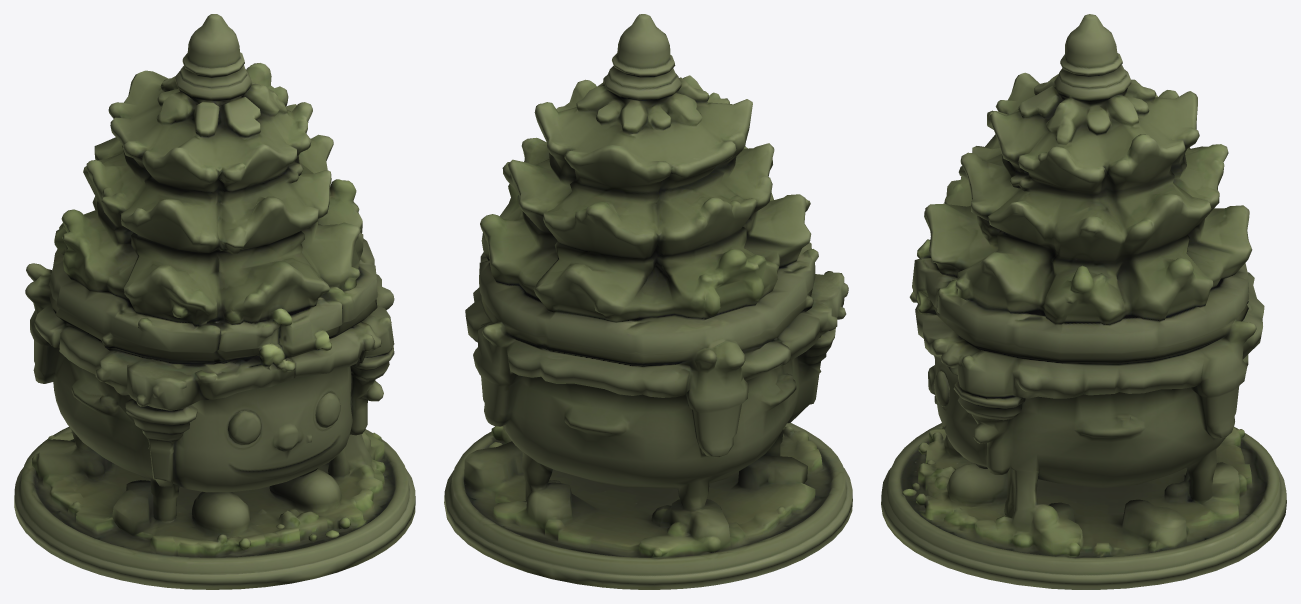
The model's file is cambodia-envi-3.glb.
3 views of the same model, side by side, from view 1: azimuth 30°, elevation 25°; view 2: azimuth 150°, elevation 25°; view 3: azimuth 270°, elevation 25° (orthographic).
Visible parts, largest first — view 1: tripo_node_598c4153-5ca3-40f5-a7f3-57812e4cdfe0; view 2: tripo_node_598c4153-5ca3-40f5-a7f3-57812e4cdfe0; view 3: tripo_node_598c4153-5ca3-40f5-a7f3-57812e4cdfe0.
Part boxes in pixels (x1,y1,x2,y2): tripo_node_598c4153-5ca3-40f5-a7f3-57812e4cdfe0: (14, 14, 415, 589); tripo_node_598c4153-5ca3-40f5-a7f3-57812e4cdfe0: (444, 14, 852, 589); tripo_node_598c4153-5ca3-40f5-a7f3-57812e4cdfe0: (881, 14, 1286, 589).
Size of the model in its own units: 0.7476 by 0.9995 by 0.7505.
Materials: 1 (1 with a texture image).
